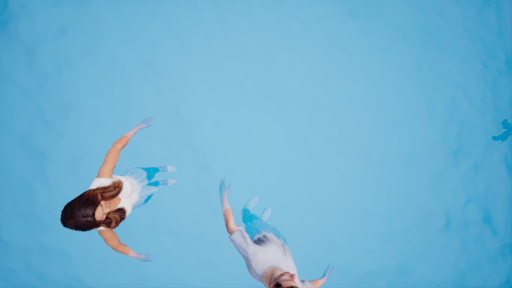person: (72, 122, 200, 260), (208, 179, 336, 288)
